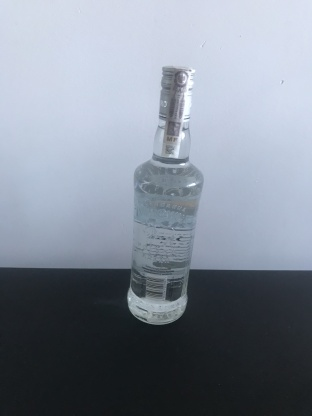nakretka: (157, 63, 197, 121)
